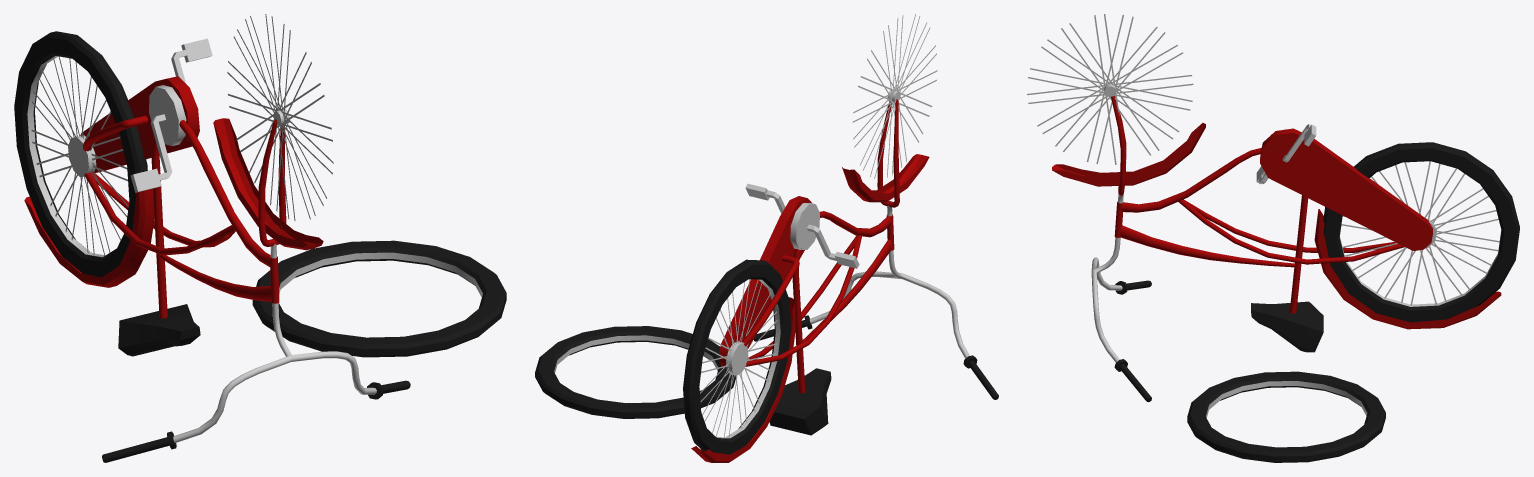
The model's file is CLEM(puzzle01)bicycle.FBX.
3 views of the same model, side by side, from view 1: azimuth 30°, elevation 25°; view 2: azimuth 150°, elevation 25°; view 3: azimuth 270°, elevation 25° (orthographic). The views are drawn at different scales.
Visible parts, largest first — view 1: Handlebar, Body, WheelBack, Wheel, Pedals; view 2: Body, Handlebar, WheelBack, Wheel, Pedals; view 3: Body, WheelBack, Handlebar, Wheel, Pedals.
Boxes of the visible parts, bbox=[...] form: Handlebar: bbox=[102, 118, 506, 462]; Body: bbox=[24, 76, 271, 356]; WheelBack: bbox=[14, 31, 147, 277]; Wheel: bbox=[227, 14, 333, 220]; Pedals: bbox=[130, 38, 212, 192]; Body: bbox=[691, 196, 892, 462]; Handlebar: bbox=[535, 99, 998, 418]; WheelBack: bbox=[683, 259, 791, 454]; Wheel: bbox=[852, 14, 937, 178]; Pedals: bbox=[745, 183, 859, 268]; Body: bbox=[1120, 128, 1501, 352]; WheelBack: bbox=[1323, 142, 1519, 322]; Handlebar: bbox=[1052, 96, 1385, 462]; Wheel: bbox=[1027, 14, 1193, 164]; Pedals: bbox=[1256, 124, 1316, 184].
Size of the model in its own units: 4.7 by 3.99 by 5.4.
